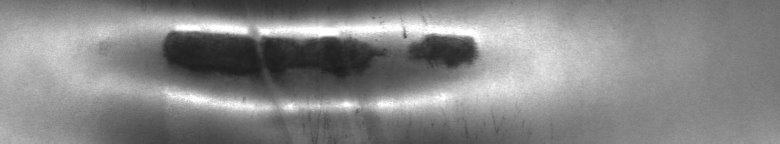ke: (100, 4, 507, 136)
